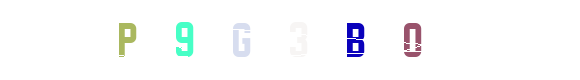3: (251, 0, 331, 80)
9: (144, 0, 224, 80)
B: (315, 0, 395, 80)
G: (215, 0, 295, 80)
O: (369, 0, 449, 80)
P: (90, 0, 170, 80)
